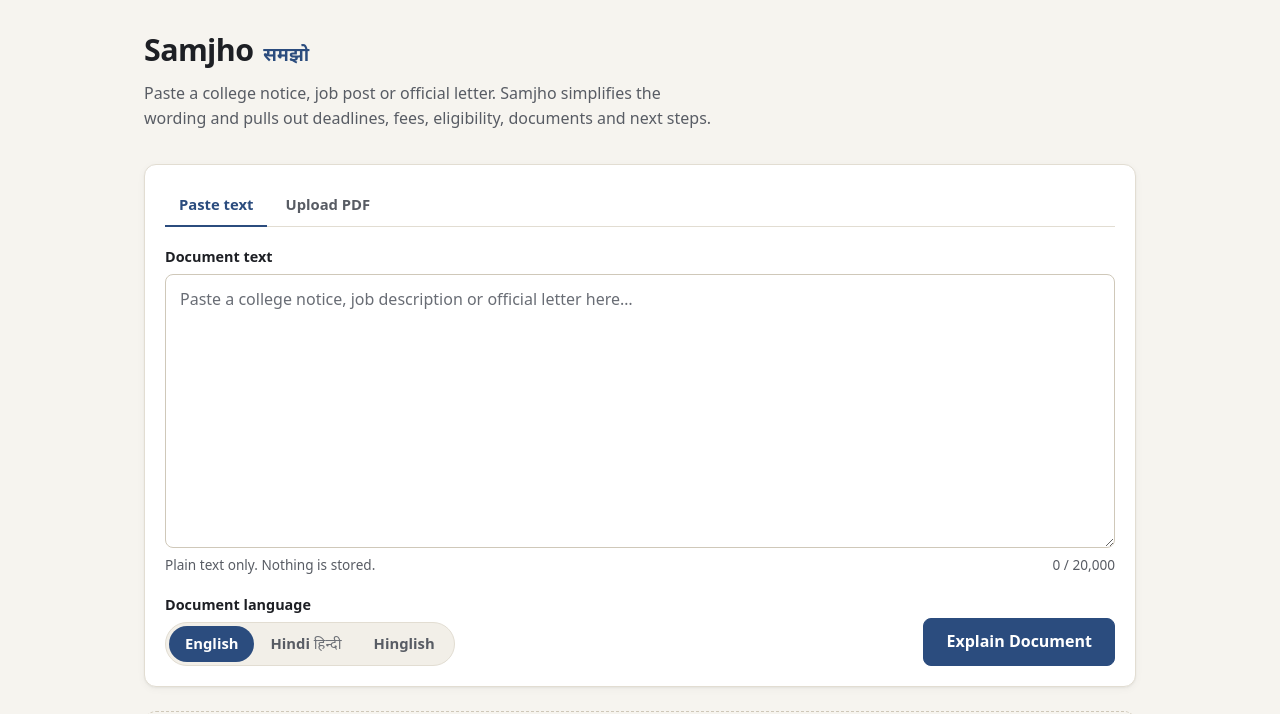
Test: errors › shows a general message for server errors
Click the text box labelled "Document text" at (640, 410), box [165,274,1115,548]
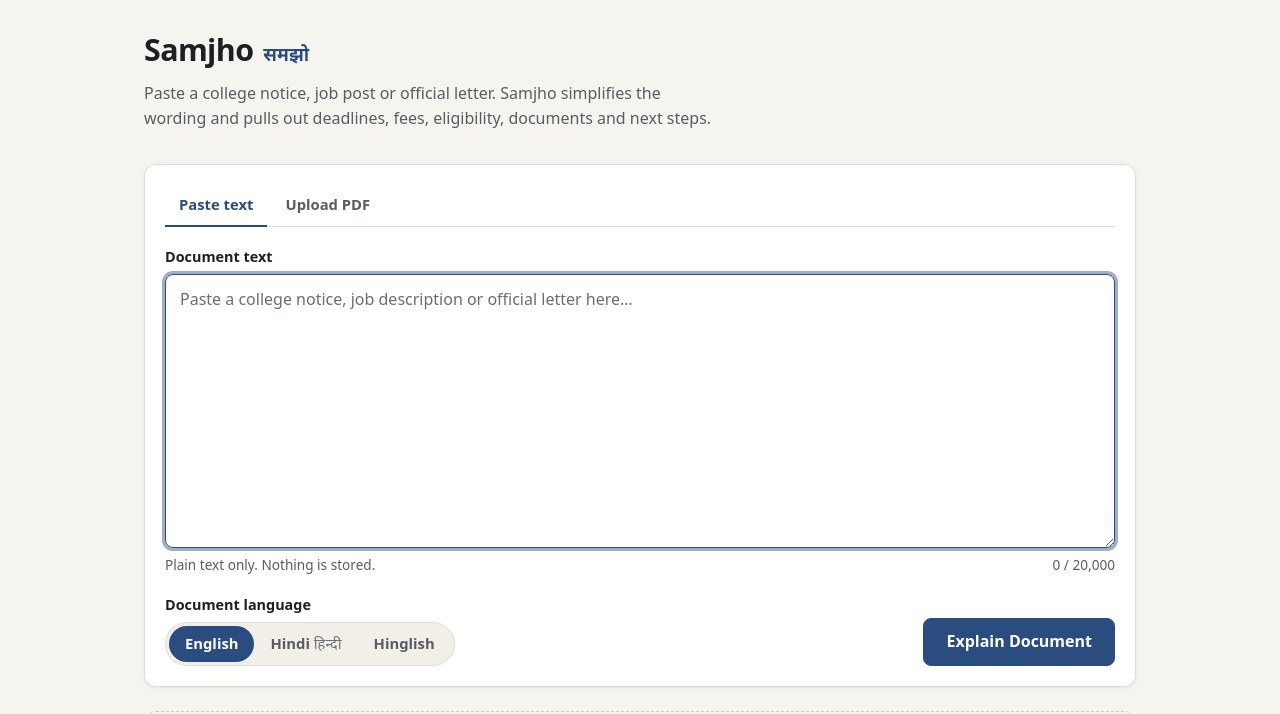
Type keys "Students with at least 60% marks must submit their resume by 15 November 2026. The application fee is ₹500. The library opens at 9 AM."
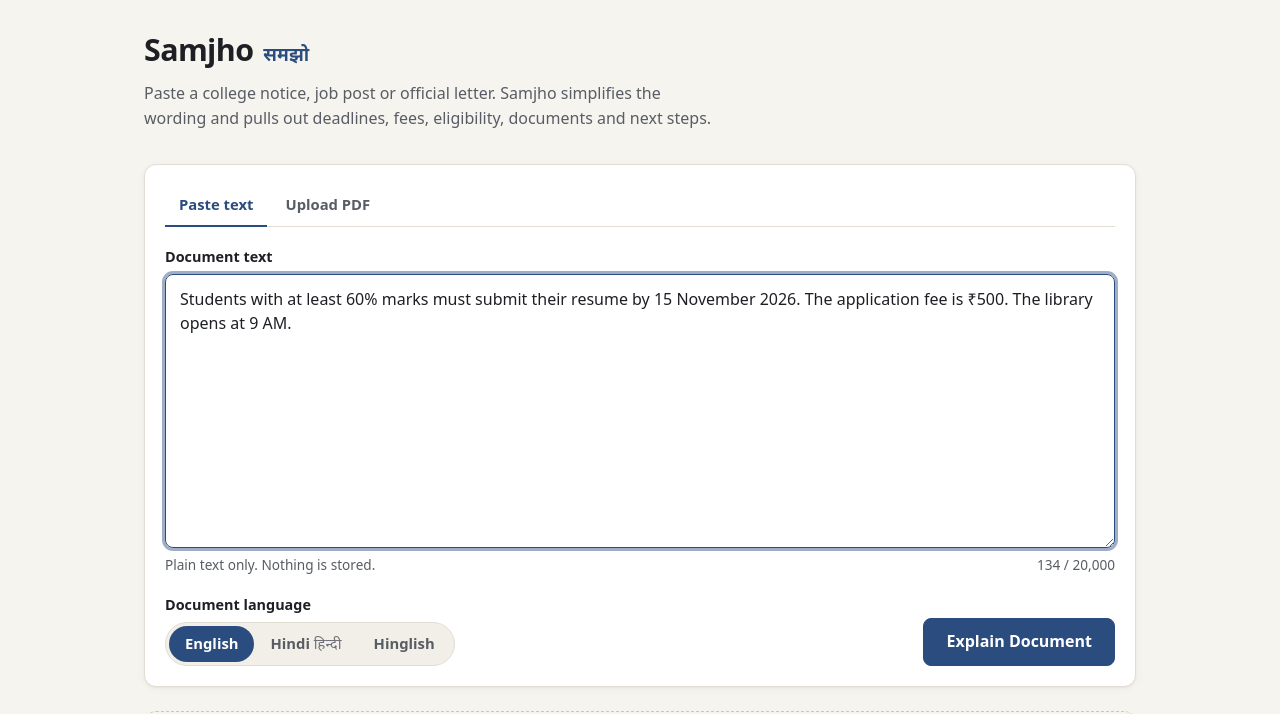
Click the button "Explain Document" at (1019, 642), box [924,618,1115,666]
(page scrolled)
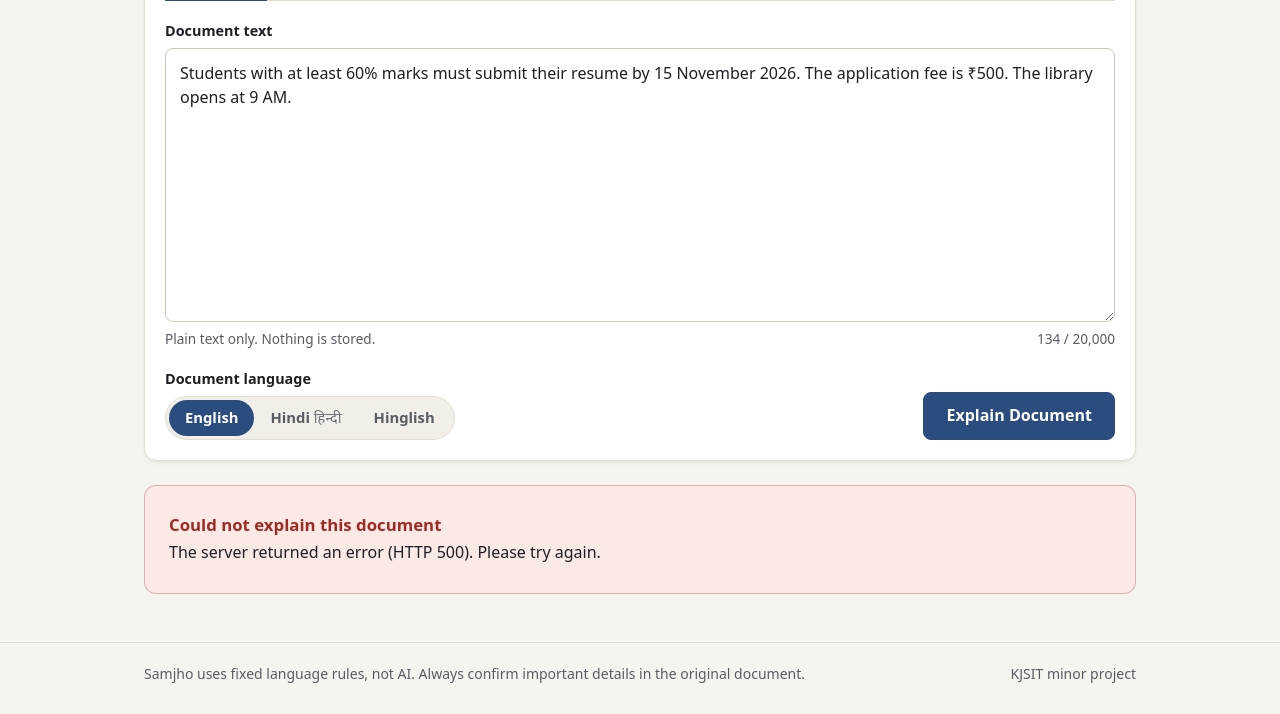
Now the message shows "HTTP 500", box [169,541,601,563]
